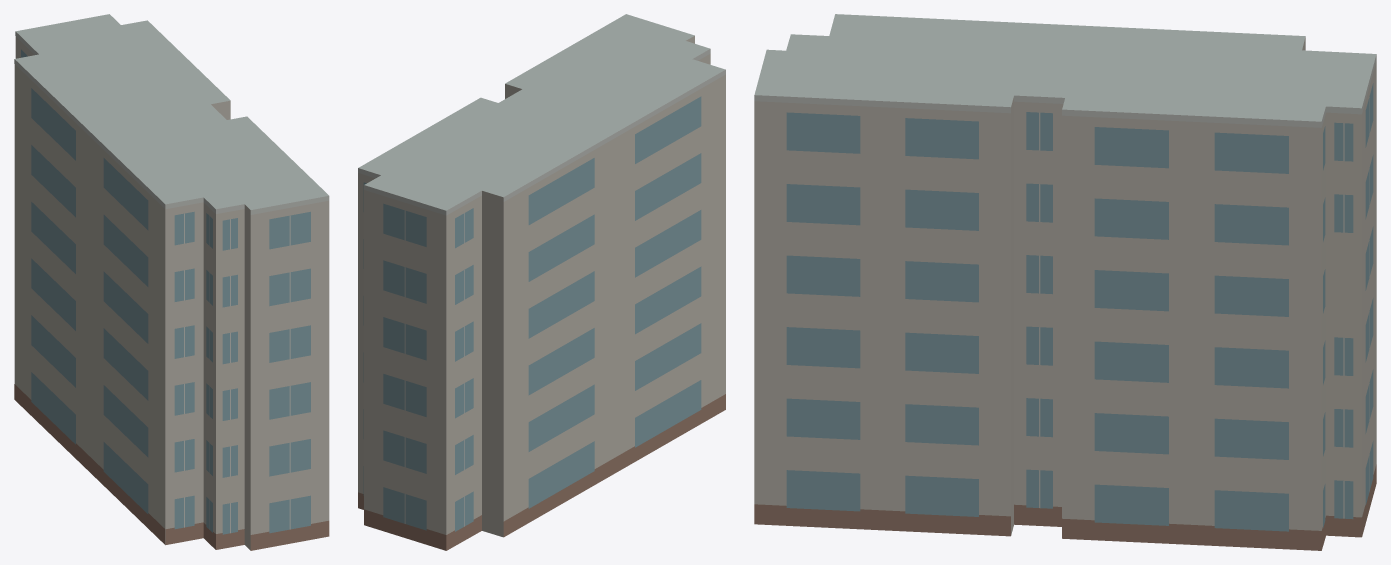
The model's file is survey-upis-32567204.glb.
The picture shows the model from 3 angles, left to right: view 1: azimuth 30°, elevation 25°; view 2: azimuth 150°, elevation 25°; view 3: azimuth 270°, elevation 25°; orthographic projection. The views are drawn at different scales.
Visible parts, largest first — view 1: survey-upis-32567204.tmp; view 2: survey-upis-32567204.tmp; view 3: survey-upis-32567204.tmp.
Part boxes in pixels (x1,y1,x2,y2): survey-upis-32567204.tmp: (14, 14, 329, 550); survey-upis-32567204.tmp: (358, 14, 725, 550); survey-upis-32567204.tmp: (754, 14, 1376, 550).
Size of the model in its own units: 9.22 by 17.1 by 22.48.
